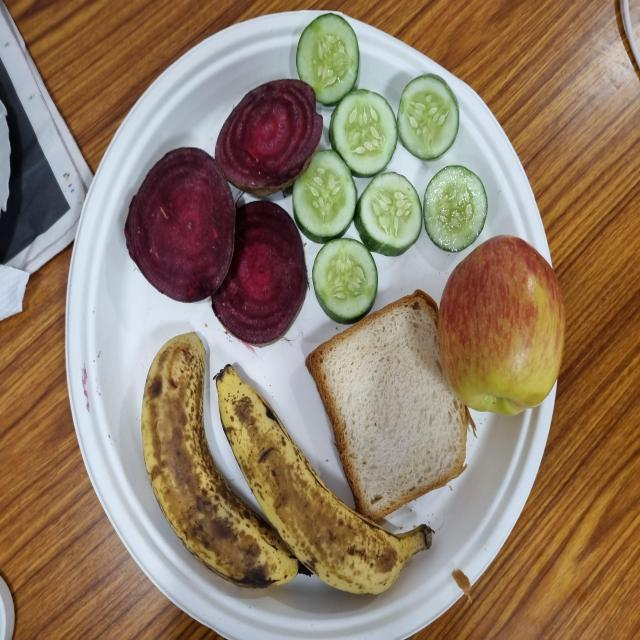apple: (437, 236, 565, 419)
banana: (212, 367, 430, 597), (140, 333, 309, 589)
cucumber: (308, 239, 380, 331), (293, 149, 360, 246), (296, 13, 361, 112), (328, 90, 399, 179), (421, 163, 489, 255), (355, 171, 424, 257), (395, 75, 460, 163)
